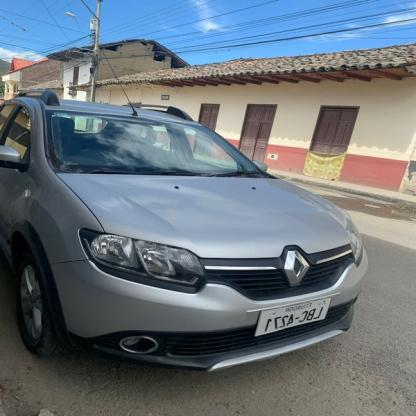Placa: (250, 293, 336, 345)
